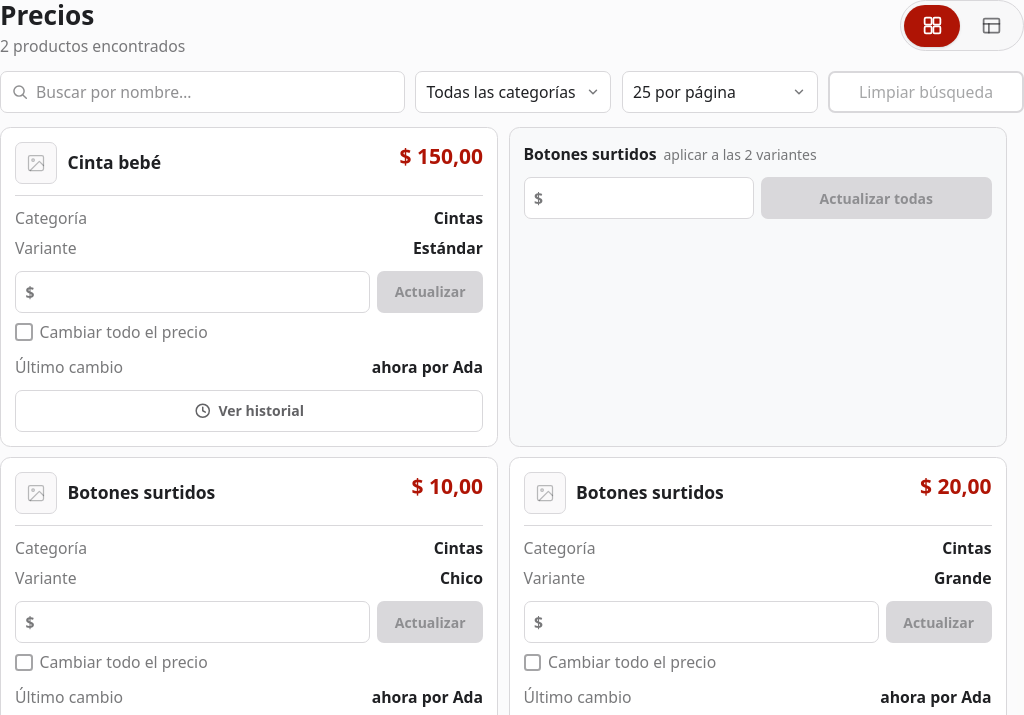
it: PricingPage › adds a typed amount to the current price and shows the resulting price before confirming
Expected: the text "Cinta bebé" is shown, [68,152,161,174]
Expected: the button "Actualizar" below "Estándar" is disabled, [377,271,483,313]
In the field named "Cuánto sumar o restar a Cinta bebé Estándar": (193, 292) [15,271,370,313], type "+25"
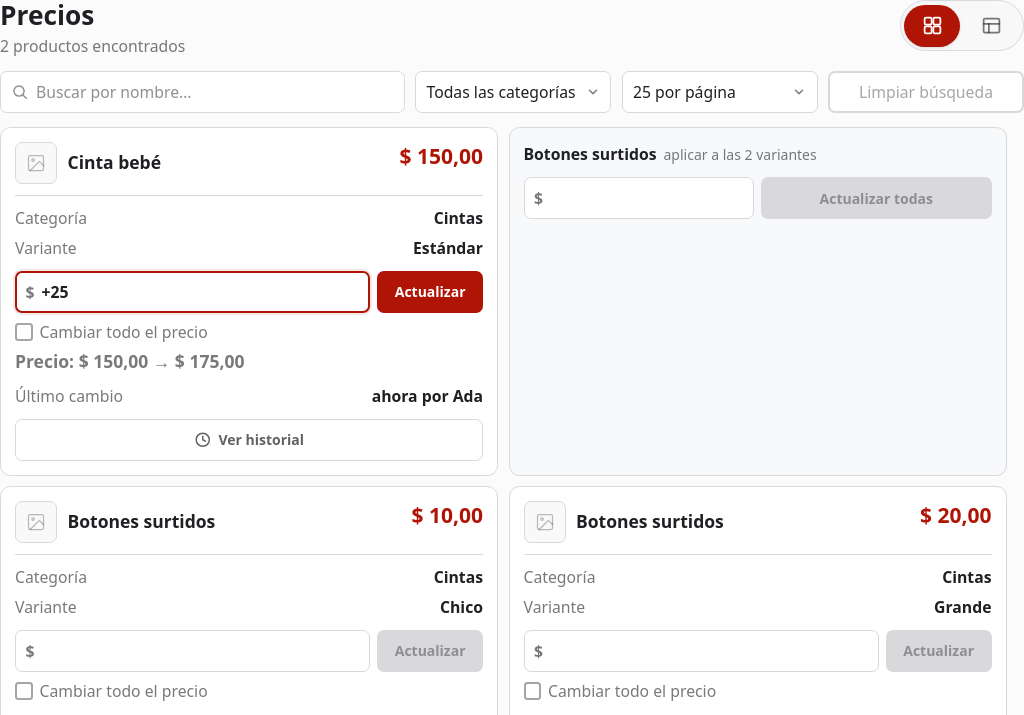
Now the text with test id "delta-preview" reads "Precio: $ 150,00 → $ 175,00", box [15,349,244,373]
Now the button "Actualizar" below "Estándar" is enabled
Click the button "Actualizar" below "Estándar": (430, 292) [377,271,483,313]
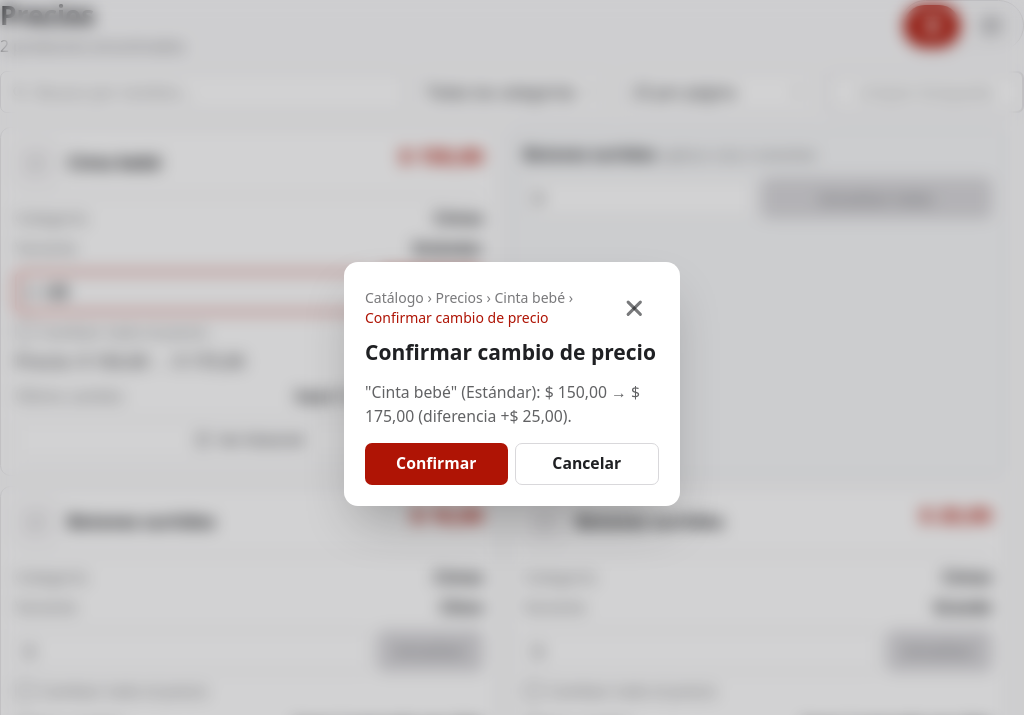
Click the button "Confirmar": (436, 464) [365,443,508,485]
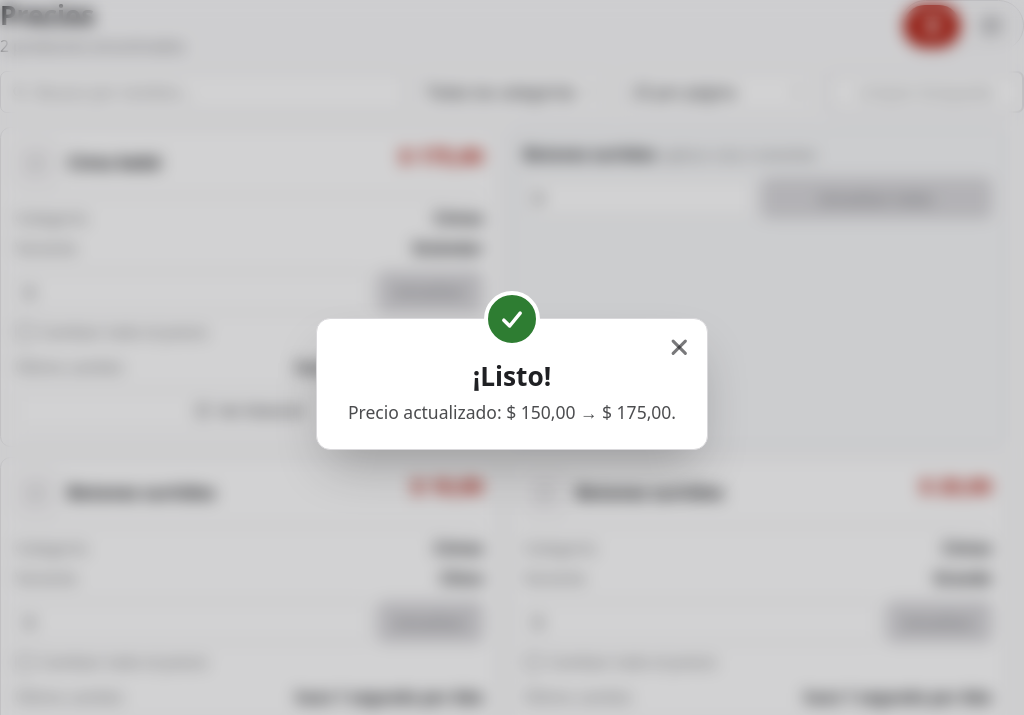
Expected: the text "$ 175,00" is shown, [400,142,483,170]
Now the dialog is gone
Now the text "Precio actualizado: $ 150,00 → $ 175,00." is shown, box [348,400,676,424]
